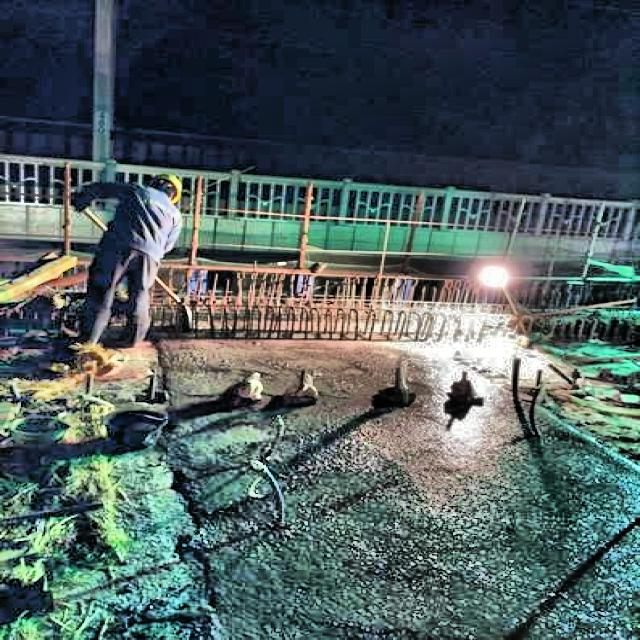helmet: (145, 166, 194, 204)
